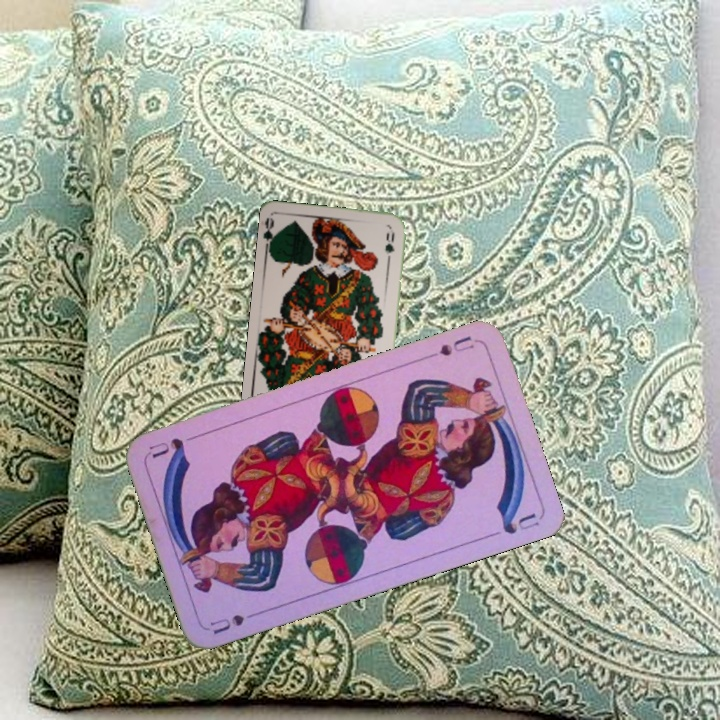GO: (260, 214, 281, 255)
SU: (206, 606, 263, 637), (422, 331, 477, 362)
